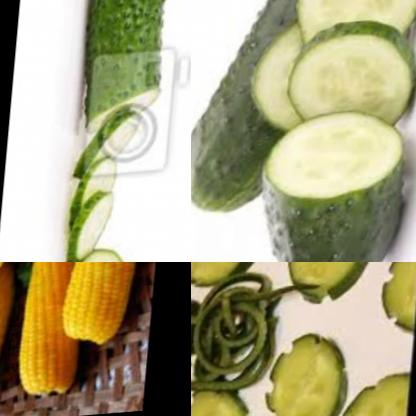corn: (10, 262, 88, 414), (66, 262, 151, 356), (0, 266, 18, 416)
cucumber: (191, 0, 407, 221), (251, 116, 416, 262), (282, 19, 416, 136), (69, 0, 185, 125), (64, 120, 155, 262), (266, 339, 361, 416), (289, 0, 416, 48), (278, 262, 377, 310), (330, 376, 415, 416), (377, 262, 416, 346), (191, 262, 279, 299), (191, 385, 266, 416)
